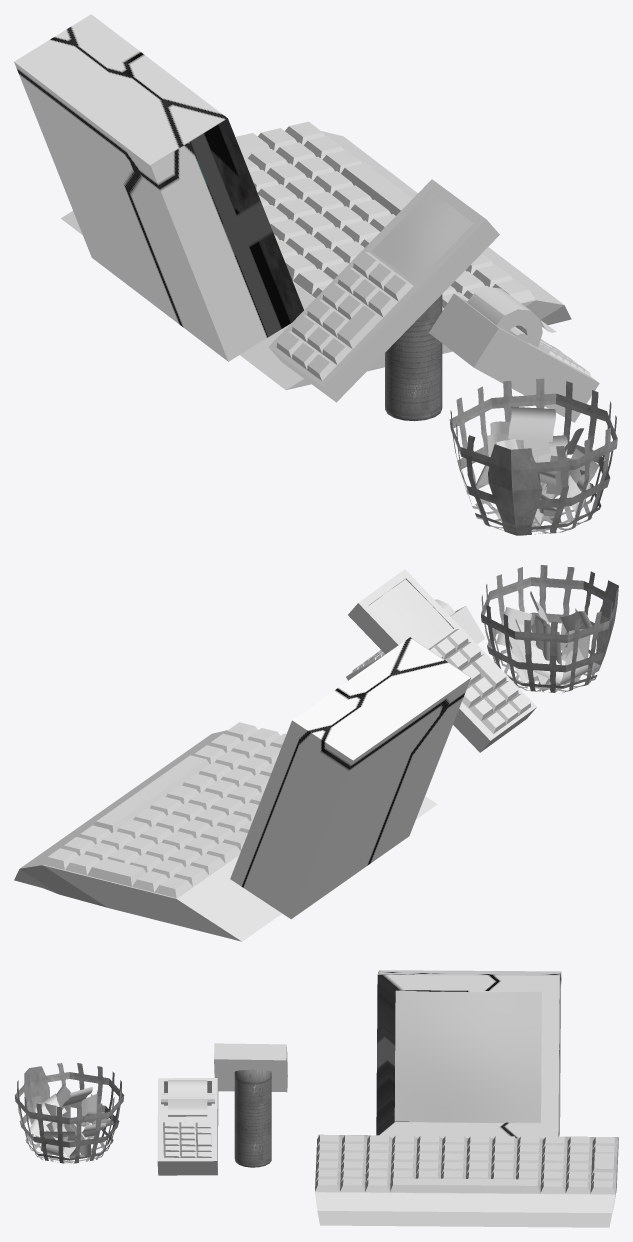
Rendered from FastFoodCounter.fbx.
The picture shows the model from 3 angles, top to bottom: view 1: azimuth 30°, elevation 25°; view 2: azimuth 150°, elevation 25°; view 3: azimuth 270°, elevation 25°; orthographic projection. The views are drawn at different scales.
Parts seen in each view (by area): view 1: Cube.023, TincanLOW.006, Cube.025, Cube.022, Cylinder.018, Cylinder.033, Cylinder.001; view 2: Cube.023, Cube.025, TincanLOW.006, Cube.022, Cylinder.033, Cylinder.018; view 3: Cube.023, Cube.025, TincanLOW.006, Cube.022, Cylinder.018, Cylinder.033, Cylinder.001.
Part boxes in pixels (x1=…): Cube.023: x1=14, y1=14, x2=303, y2=361; TincanLOW.006: x1=268, y1=179, x2=499, y2=421; Cube.025: x1=61, y1=121, x2=571, y2=390; Cube.022: x1=449, y1=378, x2=617, y2=535; Cylinder.018: x1=429, y1=293, x2=599, y2=422; Cylinder.033: x1=475, y1=406, x2=599, y2=531; Cylinder.001: x1=467, y1=287, x2=556, y2=347; Cube.023: x1=230, y1=637, x2=471, y2=919; Cube.025: x1=14, y1=722, x2=437, y2=941; TincanLOW.006: x1=348, y1=569, x2=536, y2=752; Cube.022: x1=481, y1=565, x2=618, y2=693; Cylinder.033: x1=496, y1=591, x2=592, y2=691; Cylinder.018: x1=346, y1=606, x2=485, y2=680; Cube.023: x1=376, y1=970, x2=561, y2=1138; Cube.025: x1=315, y1=1134, x2=618, y2=1227; TincanLOW.006: x1=214, y1=1043, x2=287, y2=1167; Cube.022: x1=14, y1=1063, x2=124, y2=1163; Cylinder.018: x1=157, y1=1078, x2=218, y2=1175; Cylinder.033: x1=30, y1=1083, x2=114, y2=1163; Cylinder.001: x1=168, y1=1080, x2=207, y2=1116.
Size of the model in its own units: 62.16 by 39.73 by 132.
7 materials, 3 textured.
